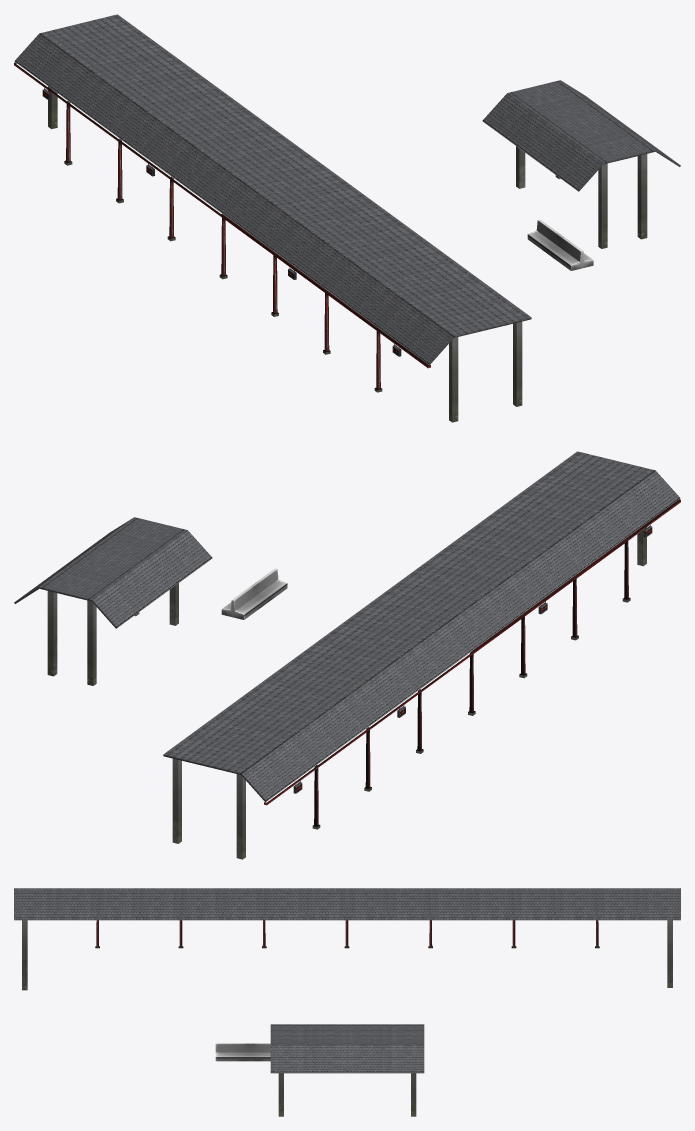
Rendered from station asset.fbx.
3 renders of one model, top to bottom at view 1: azimuth 30°, elevation 25°; view 2: azimuth 150°, elevation 25°; view 3: azimuth 270°, elevation 25°, orthographic. The views are drawn at different scales.
Parts seen in each view (by area): view 1: polySurface31, Object012, polySurface10, polySurface30, polySurface33, polySurface32, polySurface29; view 2: polySurface31, Object012, polySurface10, polySurface30, polySurface35, polySurface34, polySurface29; view 3: polySurface31, Object012, polySurface9, polySurface33, polySurface35.
Part boxes in pixels (x1,y1,x2,y2): polySurface31: (14, 14, 531, 365); Object012: (482, 80, 680, 248); polySurface10: (527, 219, 582, 270); polySurface30: (221, 214, 430, 368); polySurface33: (513, 321, 522, 406); polySurface32: (449, 337, 458, 422); polySurface29: (14, 62, 221, 216); polySurface31: (163, 451, 680, 802); Object012: (14, 517, 212, 685); polySurface10: (233, 568, 287, 619); polySurface30: (471, 499, 680, 653); polySurface35: (172, 758, 181, 843); polySurface34: (236, 774, 245, 859); polySurface29: (264, 651, 474, 805); polySurface31: (14, 888, 680, 920); Object012: (270, 1024, 424, 1116); polySurface9: (215, 1043, 270, 1061); polySurface33: (22, 920, 27, 990); polySurface35: (667, 920, 672, 987).
Size of the model in its own units: 4135 by 1045 by 7190.
